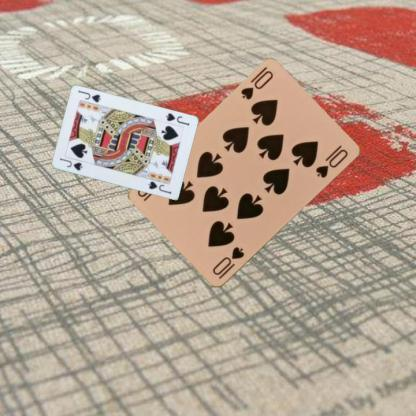10s: (210, 244, 246, 281), (238, 68, 275, 102)
Js: (57, 154, 83, 172), (163, 110, 190, 127)
